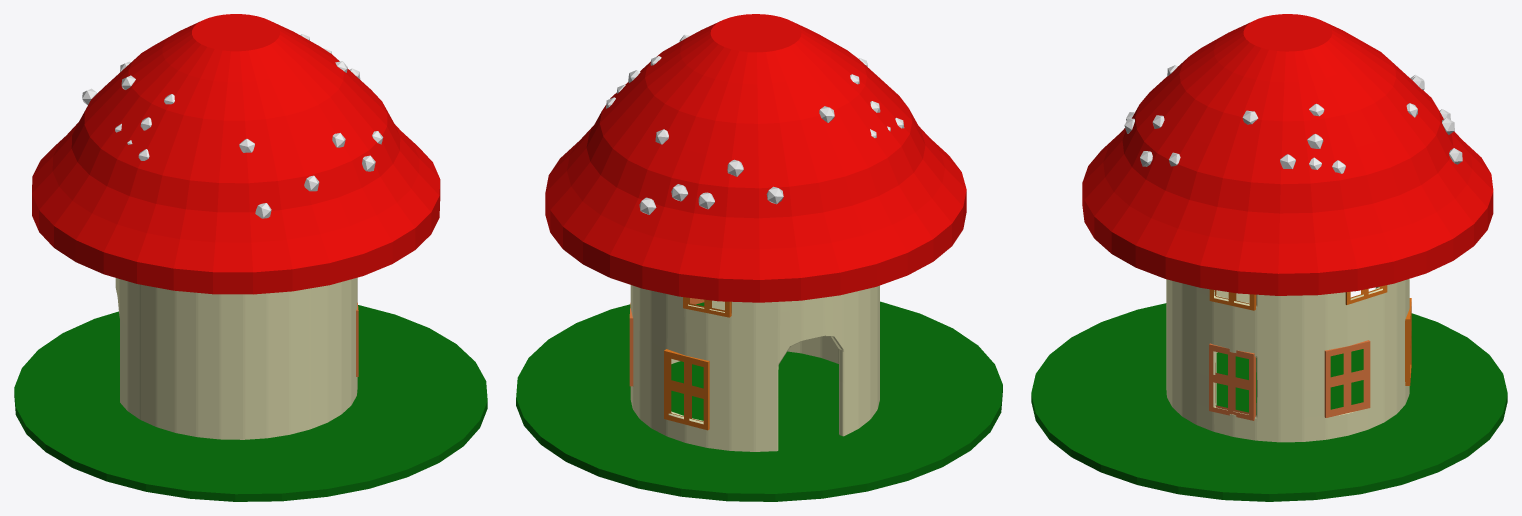
File: mushroom-house.fbx
3 renders of one model, left to right at view 1: azimuth 30°, elevation 25°; view 2: azimuth 150°, elevation 25°; view 3: azimuth 270°, elevation 25°, orthographic. The views are drawn at different scales.
Parts seen in each view (by area): view 1: Cylinder.001, Cylinder.002, Cylinder; view 2: Cylinder.001, Cylinder.002, Cylinder, Cube; view 3: Cylinder.001, Cylinder.002, Cylinder, Cube.001, Cube.002, Cube.
Boxes of the visible parts, left/top/right/bottom form: Cylinder.001: left=32, top=14, right=440, bottom=294; Cylinder.002: left=14, top=305, right=487, bottom=501; Cylinder: left=115, top=277, right=357, bottom=439; Cylinder.001: left=545, top=14, right=966, bottom=302; Cylinder.002: left=516, top=301, right=1002, bottom=501; Cylinder: left=630, top=285, right=879, bottom=451; Cube: left=664, top=349, right=709, bottom=430; Cylinder.001: left=1082, top=14, right=1493, bottom=295; Cylinder.002: left=1031, top=303, right=1507, bottom=501; Cylinder: left=1166, top=279, right=1409, bottom=442; Cube.001: left=1324, top=340, right=1370, bottom=417; Cube.002: left=1209, top=343, right=1255, bottom=420; Cube: left=1405, top=298, right=1411, bottom=385.
Bounding box in the file's own units: 506 × 429 × 506.
